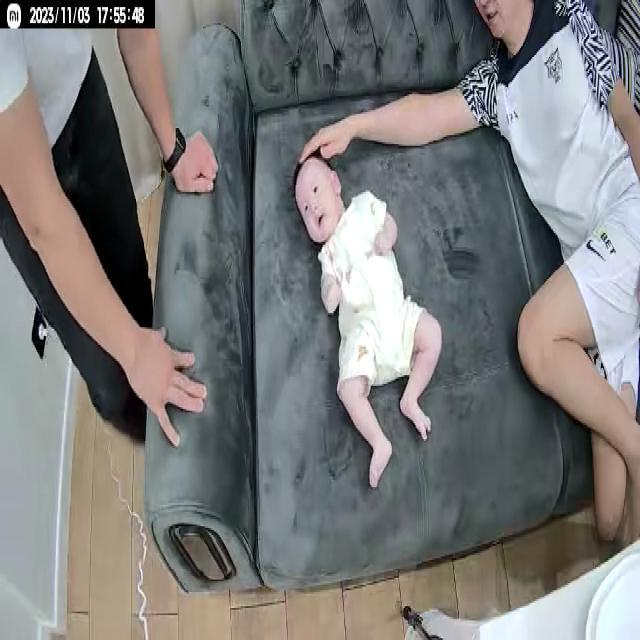baby: (293, 150, 443, 496)
